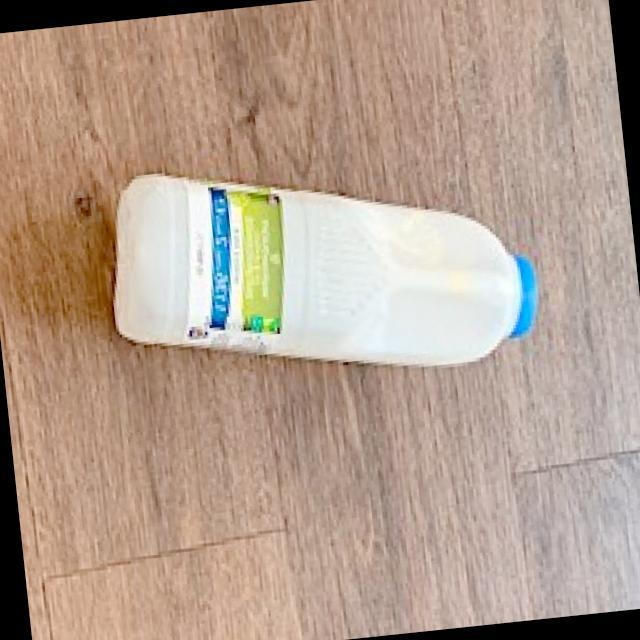HDPE Plastic: (110, 168, 542, 376)
